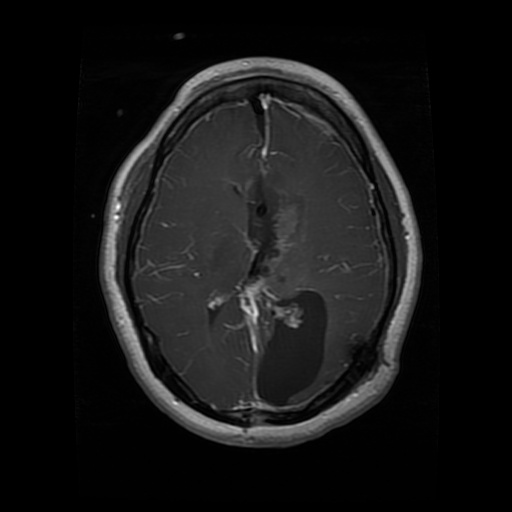glioma: (236, 172, 332, 407)
